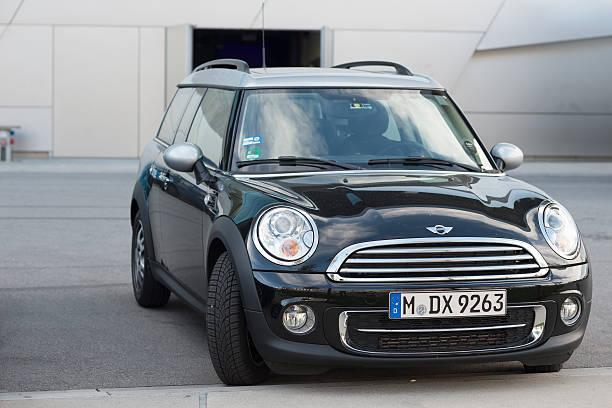mini: (422, 217, 463, 241)
